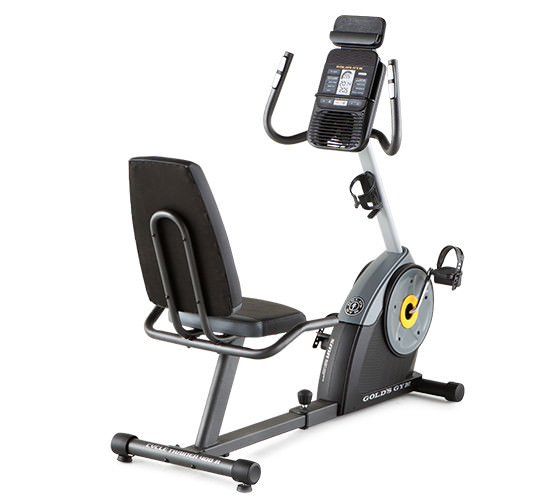gym_bike: (84, 17, 497, 492)
